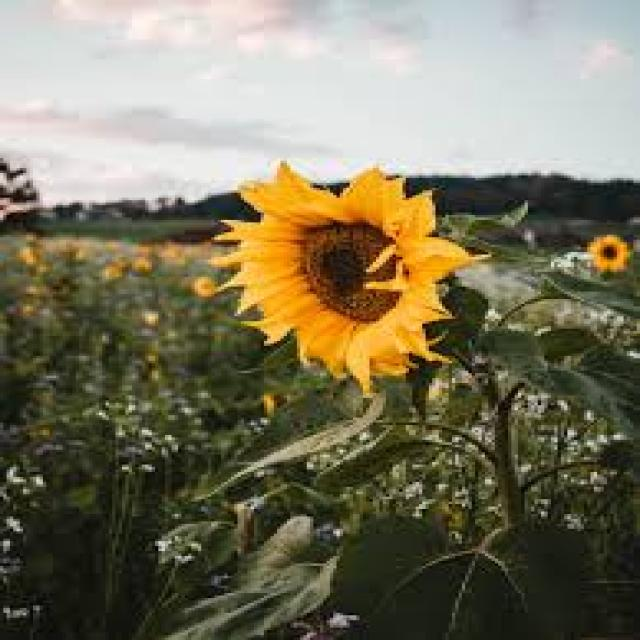sunflower: (190, 146, 480, 400), (572, 222, 632, 277)
